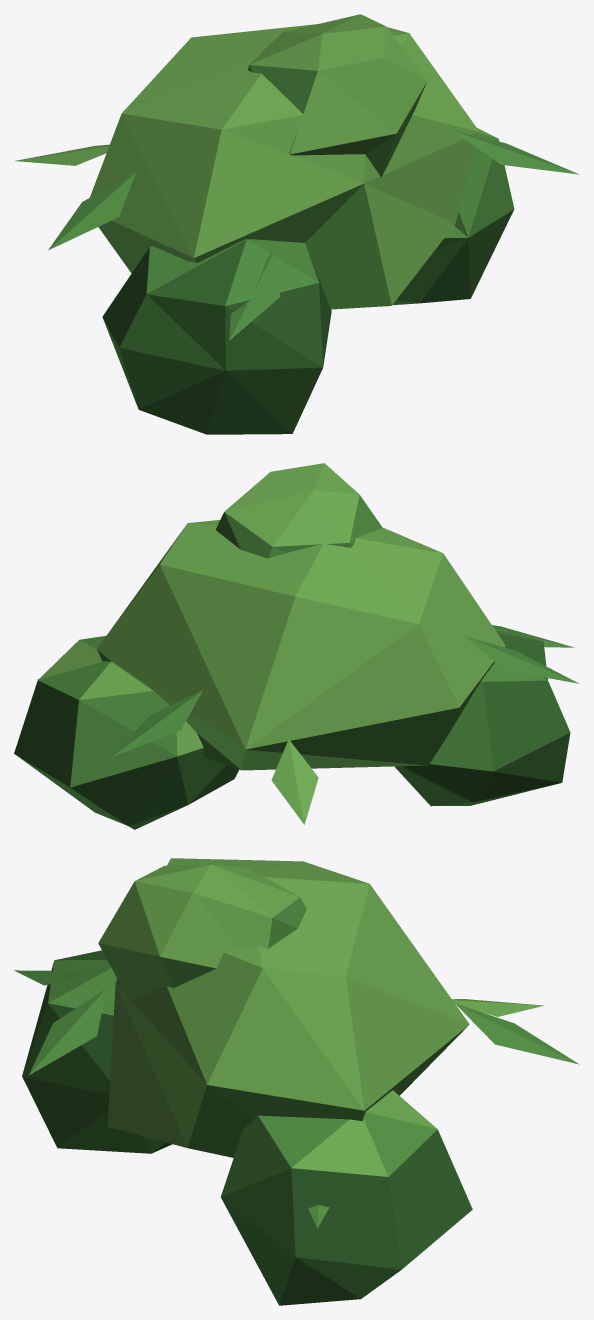
File: bush_round_c.fbx
The picture shows the model from 3 angles, top to bottom: view 1: azimuth 30°, elevation 25°; view 2: azimuth 150°, elevation 25°; view 3: azimuth 270°, elevation 25°; orthographic projection. The views are drawn at different scales.
Parts seen in each view (by area): view 1: bush_round_c; view 2: bush_round_c; view 3: bush_round_c.
Boxes of the visible parts, x1,y1,x2,y2 form: bush_round_c: [15, 14, 579, 434]; bush_round_c: [14, 463, 579, 829]; bush_round_c: [14, 858, 579, 1305].
Bounding box in the file's own units: 1.43 × 0.9031 × 1.26.
